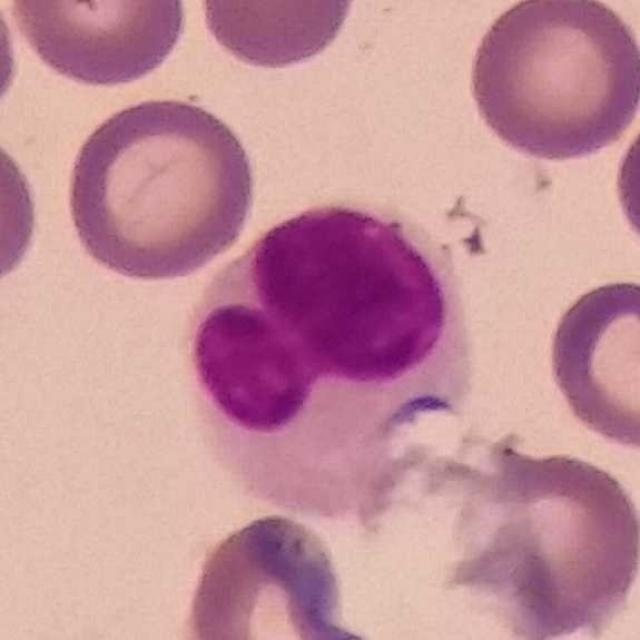Monocyte: (179, 198, 473, 524)
RBC: (446, 435, 640, 640), (59, 91, 260, 284), (463, 0, 640, 165), (175, 506, 373, 639), (541, 272, 640, 456), (3, 0, 193, 91), (190, 0, 361, 73), (0, 122, 46, 298), (609, 95, 640, 275), (0, 1, 23, 127)
